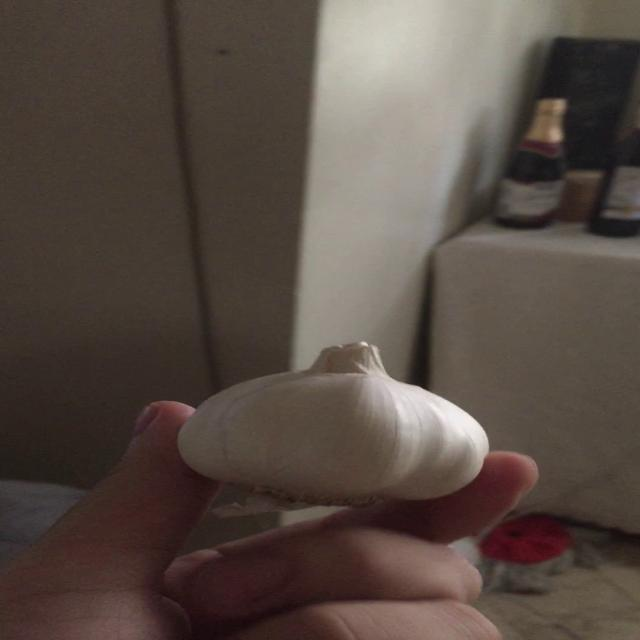garlic: (168, 336, 496, 511)
